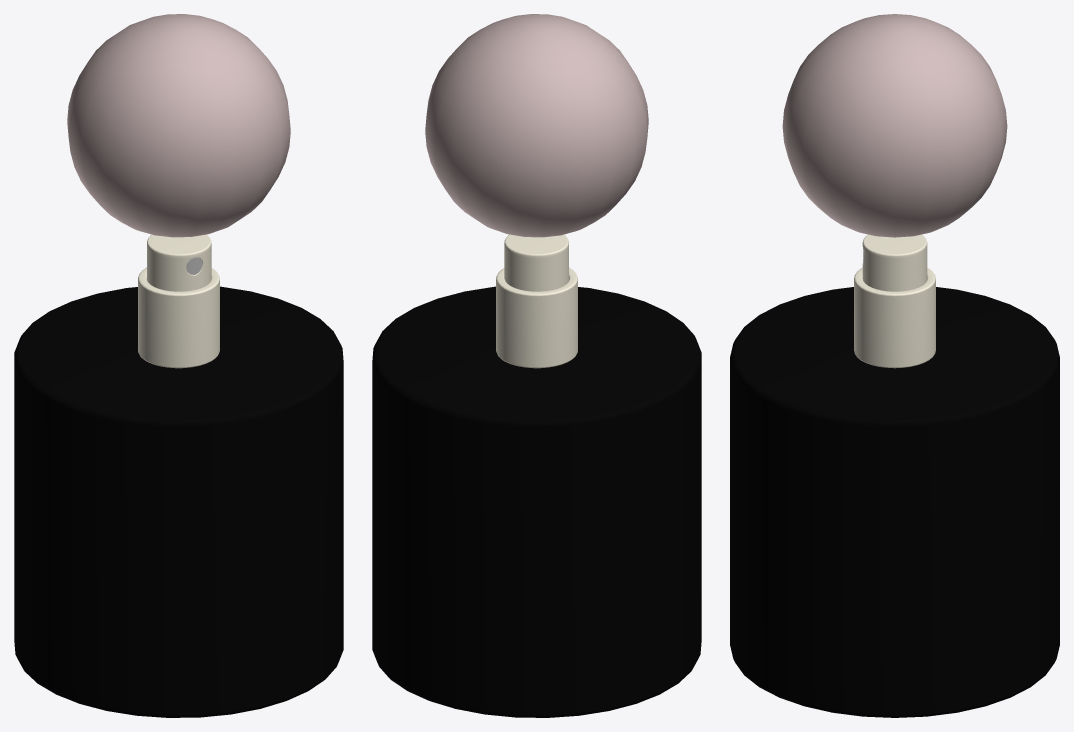
Rendered from perfume_test.glb.
3 views of the same model, side by side, from view 1: azimuth 30°, elevation 25°; view 2: azimuth 150°, elevation 25°; view 3: azimuth 270°, elevation 25° (orthographic).
Bounding box in the file's own units: 4.45 × 9.34 × 4.45.
